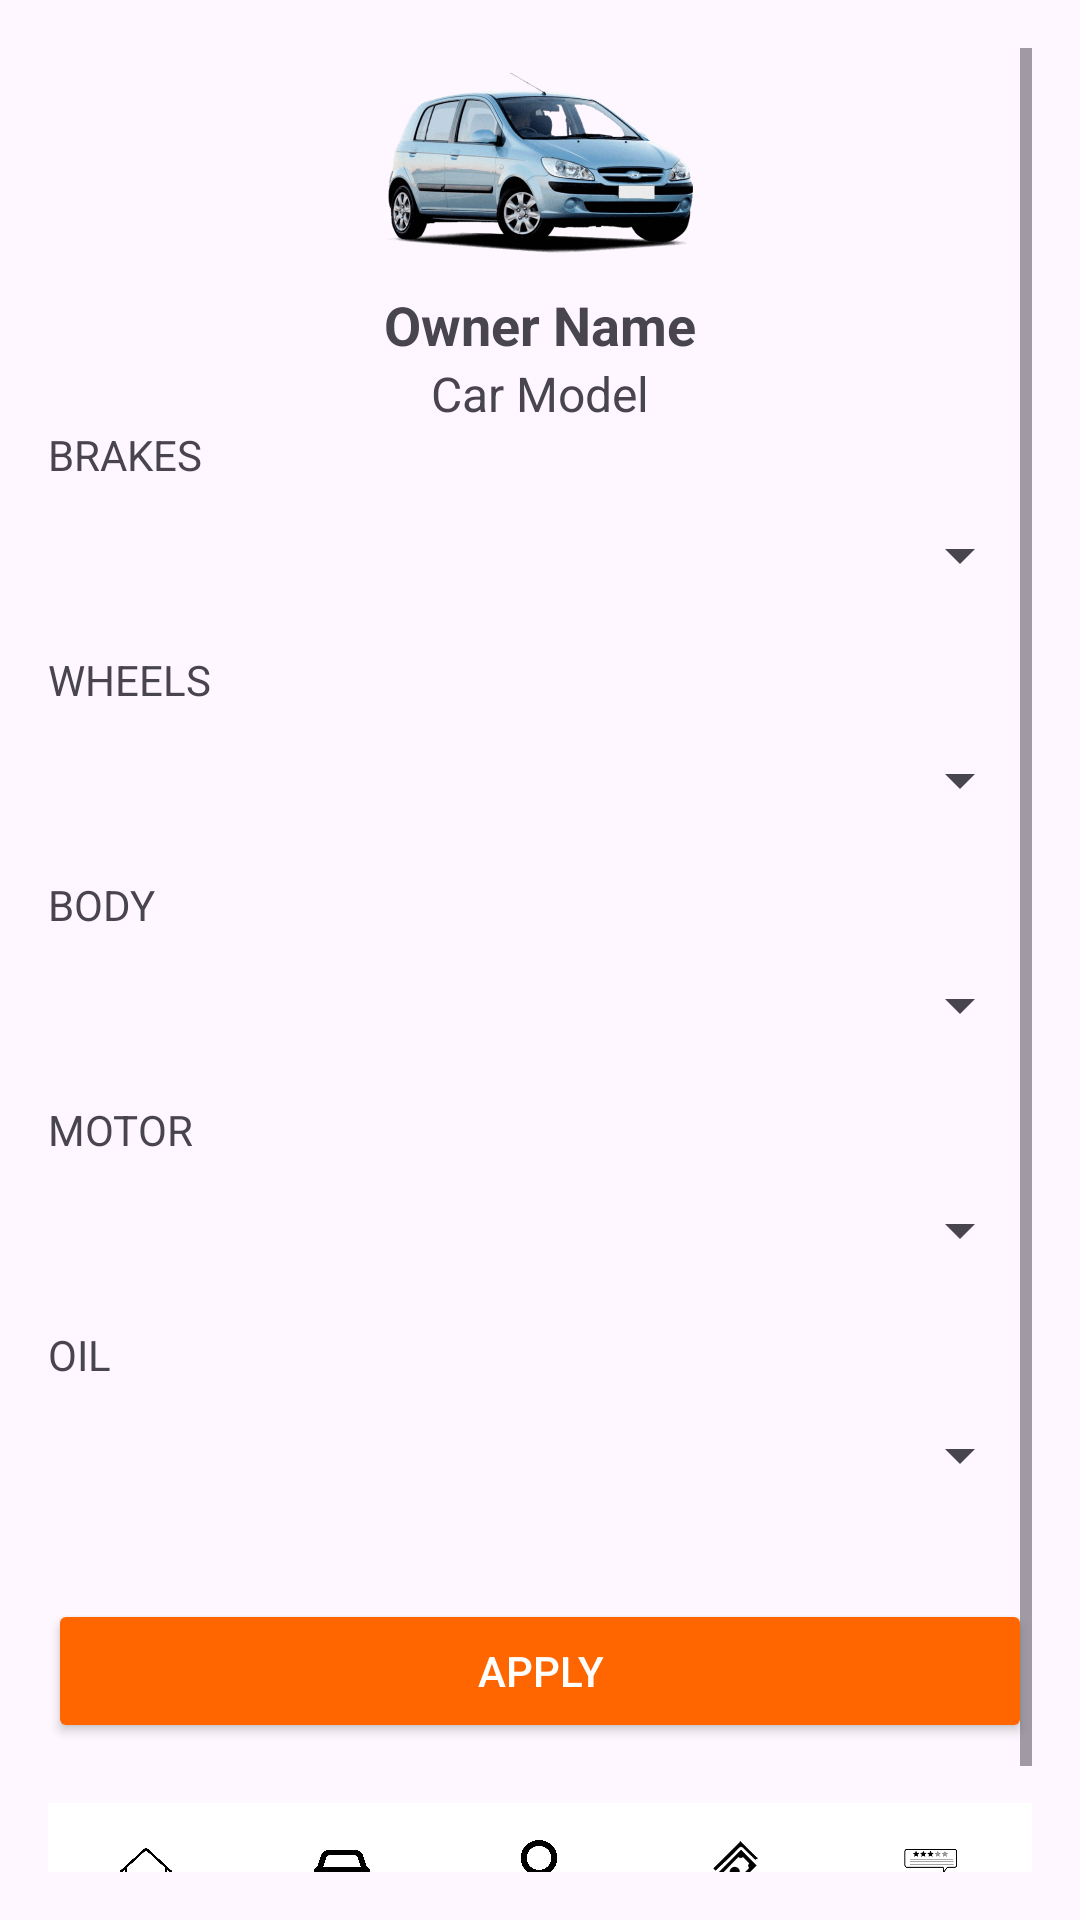

Screen size 1080x1920. Icon name, then its center in pixels as point (x, y):
hyundai getz: point (540, 163)
